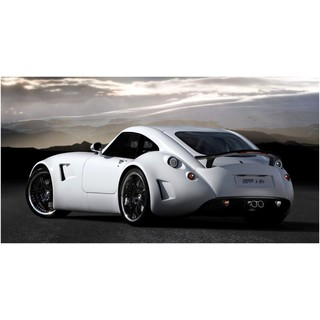car: (26, 125, 294, 224)
